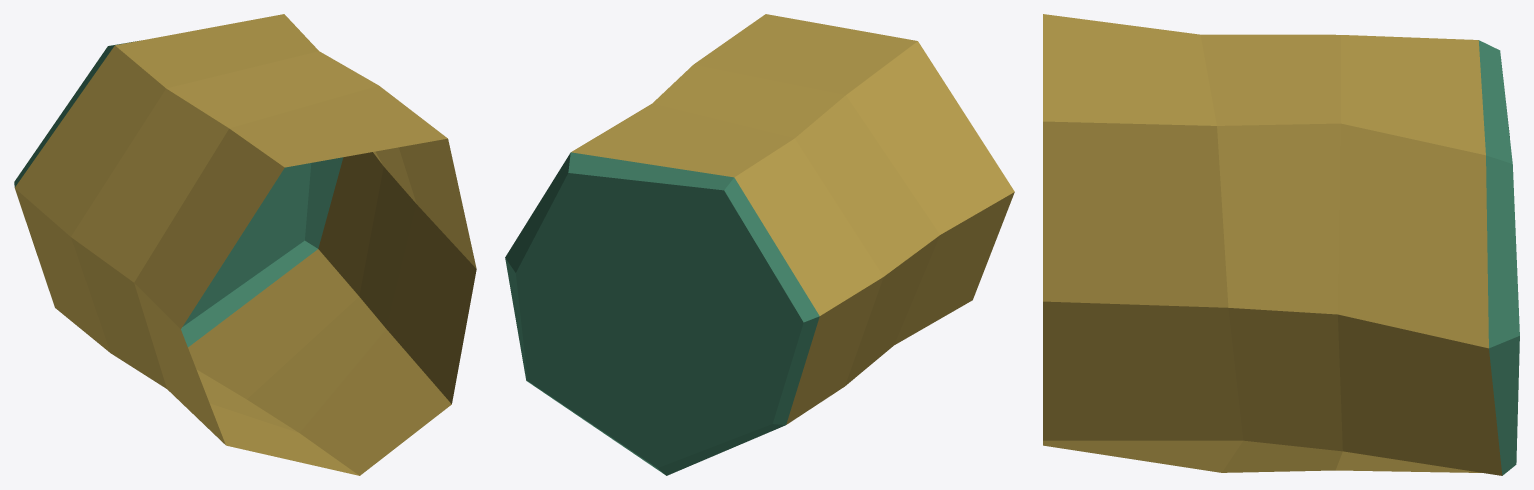
Rendered from Cliff_2.fbx.
3 views of the same model, side by side, from view 1: azimuth 30°, elevation 25°; view 2: azimuth 150°, elevation 25°; view 3: azimuth 270°, elevation 25° (orthographic). The views are drawn at different scales.
Parts seen in each view (by area): view 1: Cliff_2.001; view 2: Cliff_2.001; view 3: Cliff_2.001.
Part boxes in pixels (bbox=[...]): Cliff_2.001: bbox=[14, 14, 476, 475]; Cliff_2.001: bbox=[505, 14, 1014, 475]; Cliff_2.001: bbox=[1043, 14, 1519, 475].
Bounding box in the file's own units: 7.58 × 7.01 × 7.34.
